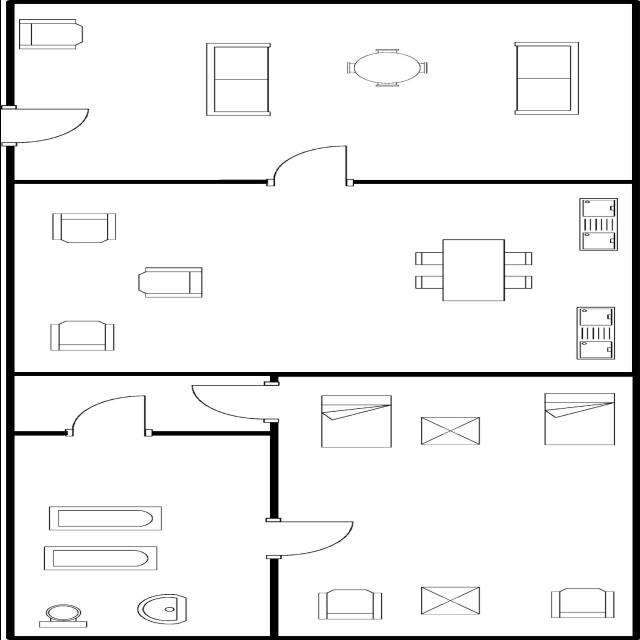armchair: (542, 582, 622, 622), (12, 14, 91, 54), (130, 262, 210, 300), (41, 316, 120, 354), (46, 208, 124, 246), (310, 585, 390, 622)
bed: (308, 390, 400, 450), (534, 389, 622, 449)
coffee_table: (414, 581, 489, 618), (414, 412, 486, 447)
dining_table: (409, 234, 544, 304)
large_sink: (34, 600, 94, 630)
large_sofa: (506, 36, 586, 118), (198, 38, 276, 120)
round_table: (338, 46, 433, 91)
small_sink: (132, 590, 198, 627)
tub: (41, 502, 168, 532), (38, 543, 162, 572)
twin_sink: (568, 194, 626, 255), (568, 302, 622, 362)
